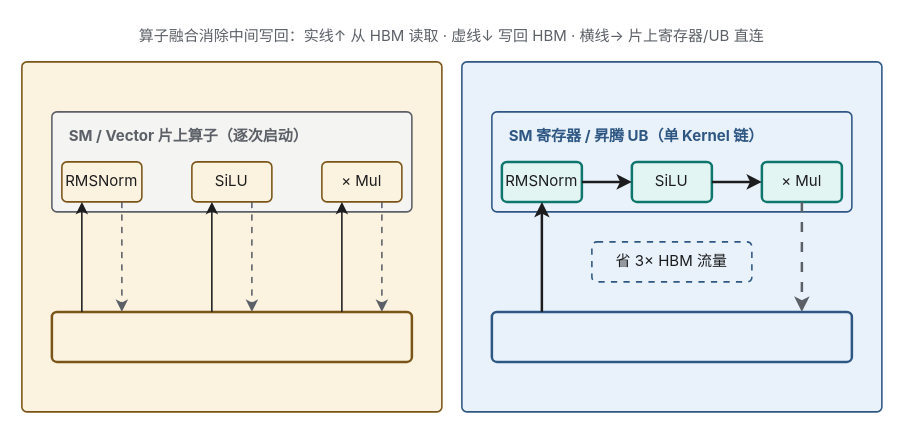
The diagram is 905 pixels wide and 434 high, and some of its shapes have lost their labels. Here are the shapes that lost their labels. From the top down, the box of each, then its label:
(20, 60, 442, 412): 未融合：3 次启动 · 6 次 HBM 往返
(460, 60, 882, 412): 融合 Kernel：1 次启动 · 2 次 HBM 往返
(50, 310, 412, 362): 片外 HBM 显存（6× 总线往返）
(490, 310, 852, 362): 片外 HBM 显存（仅首尾 2× 往返）
